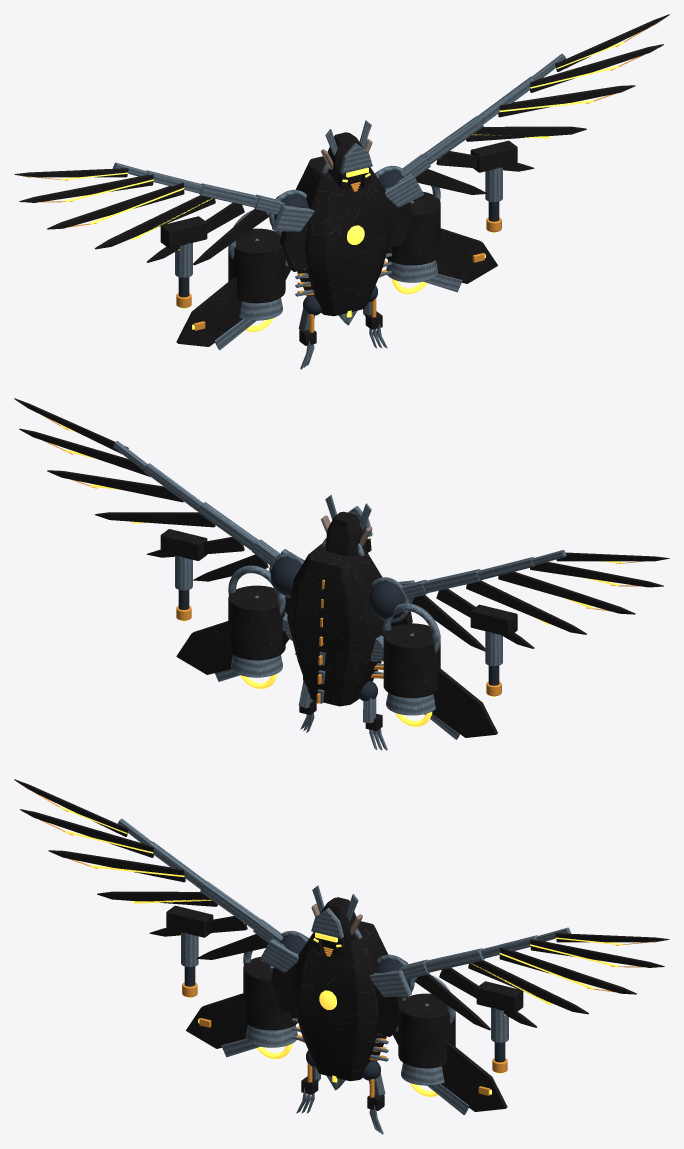
File: seraph.glb
3 views of the same model, one above another, from view 1: azimuth 30°, elevation 25°; view 2: azimuth 150°, elevation 25°; view 3: azimuth 330°, elevation 25° (orthographic).
Parts seen in each view (by area): view 1: SeraphTorso.001_SERAPH_Slate_Armor_Combined, WingUpper_L.001_SERAPH_Slate_Armor_Combined, WingUpper_R.001_SERAPH_Slate_Armor_Combined, Turbine_Outer_Cowl_L.001, Turbine_Outer_Cowl_R.001, Lower_Stabilizer_Fin_L.001, WingUpper_R.001_SERAPH_Machined_Titanium_Combined, Lower_Stabilizer_Fin_R.001, SeraphTorso.001_SERAPH_Machined_Titanium_Combined, WingUpper_L.001_SERAPH_Machined_Titanium_Combined, Cannon_Receiver_L.001, SeraphHead.001_SERAPH_Slate_Armor_Combined (+8 smaller); view 2: SeraphTorso.001_SERAPH_Slate_Armor_Combined, WingUpper_L.001_SERAPH_Slate_Armor_Combined, WingUpper_R.001_SERAPH_Slate_Armor_Combined, Turbine_Outer_Cowl_L.001, Turbine_Outer_Cowl_R.001, WingUpper_R.001_SERAPH_Machined_Titanium_Combined, Lower_Stabilizer_Fin_L.001, WingUpper_L.001_SERAPH_Machined_Titanium_Combined, Lower_Stabilizer_Fin_R.001, Thruster_R.001_SERAPH_Machined_Titanium_Combined, Thruster_L.001_SERAPH_Machined_Titanium_Combined, SeraphHead.001_SERAPH_Slate_Armor_Combined (+7 smaller); view 3: SeraphTorso.001_SERAPH_Slate_Armor_Combined, WingUpper_R.001_SERAPH_Slate_Armor_Combined, WingUpper_L.001_SERAPH_Slate_Armor_Combined, Turbine_Outer_Cowl_R.001, Turbine_Outer_Cowl_L.001, Lower_Stabilizer_Fin_R.001, WingUpper_L.001_SERAPH_Machined_Titanium_Combined, Lower_Stabilizer_Fin_L.001, SeraphTorso.001_SERAPH_Machined_Titanium_Combined, WingUpper_R.001_SERAPH_Machined_Titanium_Combined, Cannon_Receiver_R.001, SeraphHead.001_SERAPH_Slate_Armor_Combined (+8 smaller).
Part boxes in pixels (x1,y1,x2,y2): SeraphTorso.001_SERAPH_Slate_Armor_Combined: (279, 156, 412, 316); WingUpper_L.001_SERAPH_Slate_Armor_Combined: (14, 168, 268, 265); WingUpper_R.001_SERAPH_Slate_Armor_Combined: (415, 14, 669, 194); Turbine_Outer_Cowl_L.001: (228, 228, 285, 303); Turbine_Outer_Cowl_R.001: (386, 191, 440, 265); Lower_Stabilizer_Fin_L.001: (176, 266, 290, 346); WingUpper_R.001_SERAPH_Machined_Titanium_Combined: (375, 53, 566, 178); Lower_Stabilizer_Fin_R.001: (387, 228, 497, 283); SeraphTorso.001_SERAPH_Machined_Titanium_Combined: (272, 163, 423, 325); WingUpper_L.001_SERAPH_Machined_Titanium_Combined: (113, 162, 306, 233); Cannon_Receiver_L.001: (160, 216, 207, 248); SeraphHead.001_SERAPH_Slate_Armor_Combined: (326, 132, 371, 191); SeraphTorso.001_SERAPH_Slate_Armor_Combined: (285, 544, 412, 706); WingUpper_L.001_SERAPH_Slate_Armor_Combined: (412, 552, 669, 651); WingUpper_R.001_SERAPH_Slate_Armor_Combined: (14, 398, 268, 581); Turbine_Outer_Cowl_L.001: (383, 623, 440, 698); Turbine_Outer_Cowl_R.001: (228, 585, 285, 660); WingUpper_R.001_SERAPH_Machined_Titanium_Combined: (113, 441, 303, 597); Lower_Stabilizer_Fin_L.001: (382, 658, 497, 737); WingUpper_L.001_SERAPH_Machined_Titanium_Combined: (372, 550, 566, 622); Lower_Stabilizer_Fin_R.001: (176, 621, 289, 674); Thruster_R.001_SERAPH_Machined_Titanium_Combined: (228, 565, 287, 677); Thruster_L.001_SERAPH_Machined_Titanium_Combined: (383, 603, 440, 715); SeraphHead.001_SERAPH_Slate_Armor_Combined: (325, 511, 371, 556); SeraphTorso.001_SERAPH_Slate_Armor_Combined: (271, 921, 404, 1081); WingUpper_R.001_SERAPH_Slate_Armor_Combined: (415, 933, 669, 1030); WingUpper_L.001_SERAPH_Slate_Armor_Combined: (14, 779, 268, 959); Turbine_Outer_Cowl_R.001: (398, 993, 455, 1068); Turbine_Outer_Cowl_L.001: (243, 956, 297, 1030); Lower_Stabilizer_Fin_R.001: (393, 1031, 507, 1111); WingUpper_L.001_SERAPH_Machined_Titanium_Combined: (117, 818, 308, 943); Lower_Stabilizer_Fin_L.001: (186, 993, 296, 1048); SeraphTorso.001_SERAPH_Machined_Titanium_Combined: (260, 928, 411, 1090); WingUpper_R.001_SERAPH_Machined_Titanium_Combined: (377, 927, 570, 998); Cannon_Receiver_R.001: (476, 981, 523, 1013); SeraphHead.001_SERAPH_Slate_Armor_Combined: (312, 897, 357, 956).
Size of the model in its own units: 12.68 by 4.86 by 1.37.
Materials: 6 (2 with a texture image).
